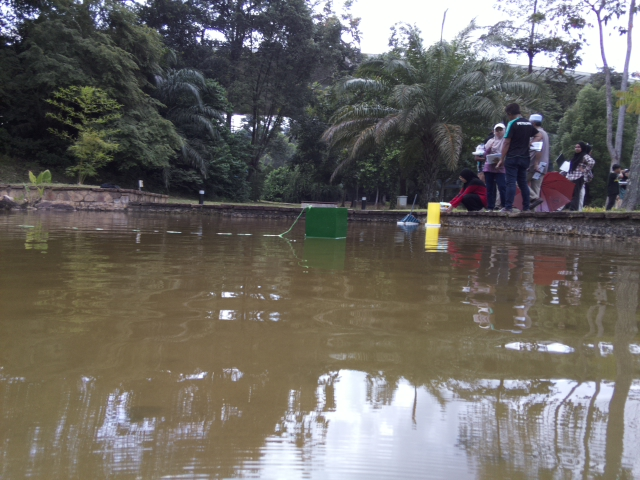obstacle: (303, 206, 349, 241)
